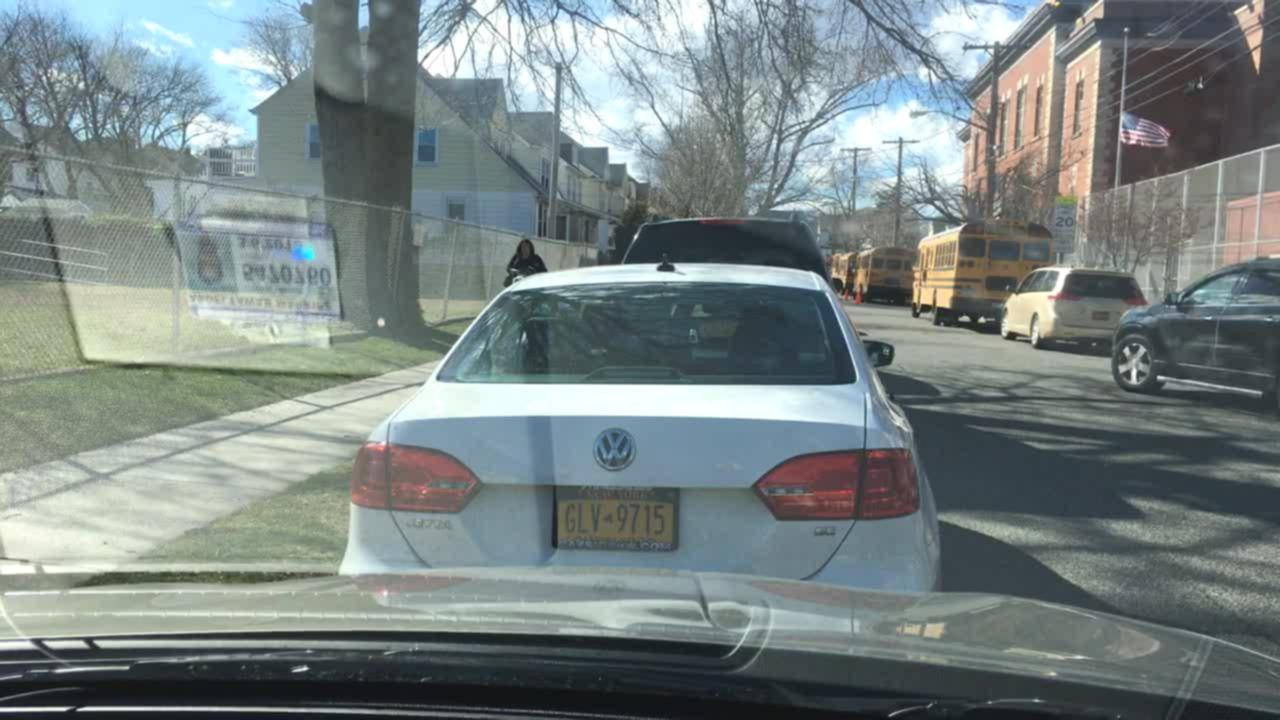Volkswagen: (587, 425, 641, 478)
